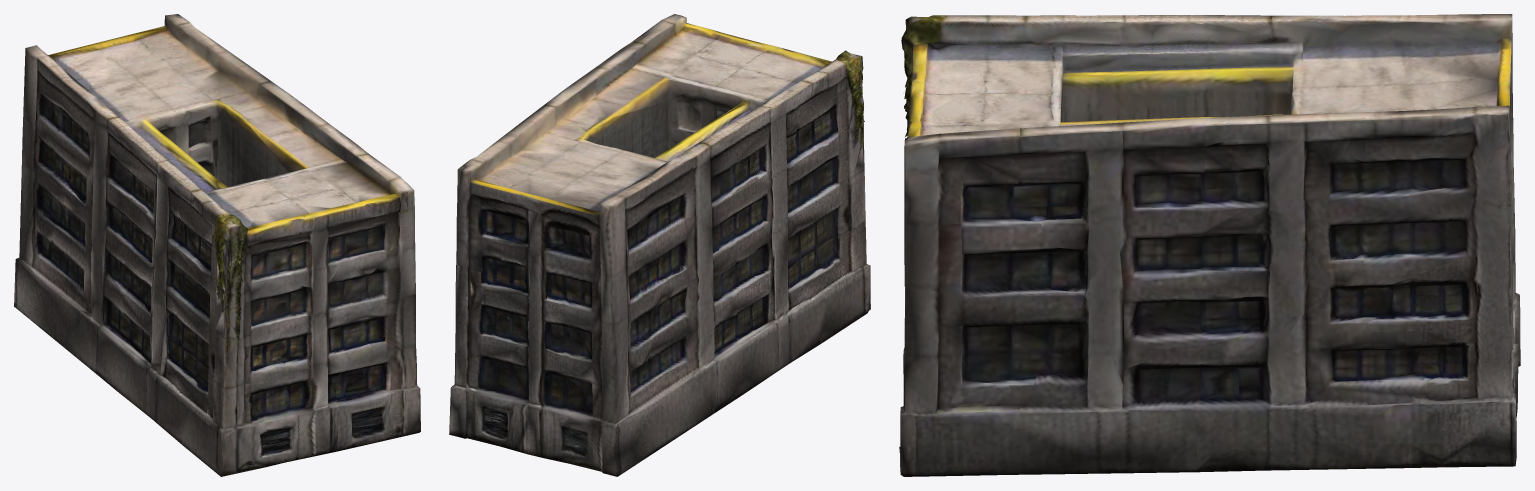
The model's file is city-building-2.glb.
3 views of the same model, side by side, from view 1: azimuth 30°, elevation 25°; view 2: azimuth 150°, elevation 25°; view 3: azimuth 270°, elevation 25° (orthographic). The views are drawn at different scales.
Visible parts, largest first — view 1: tripo_node_e0174d37-d903-447a-88f6-fa0b8f245992; view 2: tripo_node_e0174d37-d903-447a-88f6-fa0b8f245992; view 3: tripo_node_e0174d37-d903-447a-88f6-fa0b8f245992.
Boxes of the visible parts, x1,y1,x2,y2 form: tripo_node_e0174d37-d903-447a-88f6-fa0b8f245992: (14,14,420,476); tripo_node_e0174d37-d903-447a-88f6-fa0b8f245992: (449,14,870,476); tripo_node_e0174d37-d903-447a-88f6-fa0b8f245992: (899,14,1520,476).
Bounding box in the file's own units: 0.4833 × 0.6117 × 0.9761.
1 material, 1 textured.
